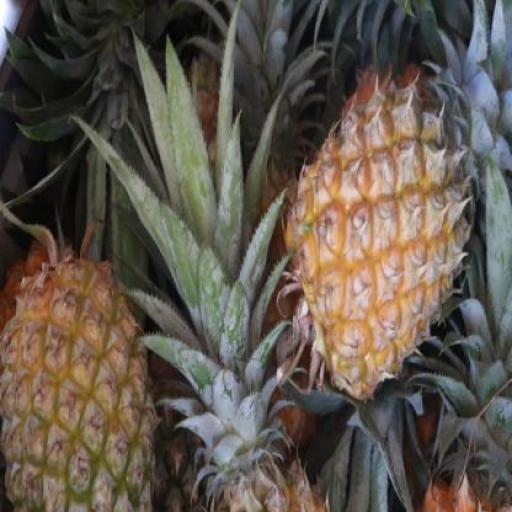------------------------------: (0, 258, 155, 512)
Pineapple - v8 v1: (288, 72, 490, 392)
